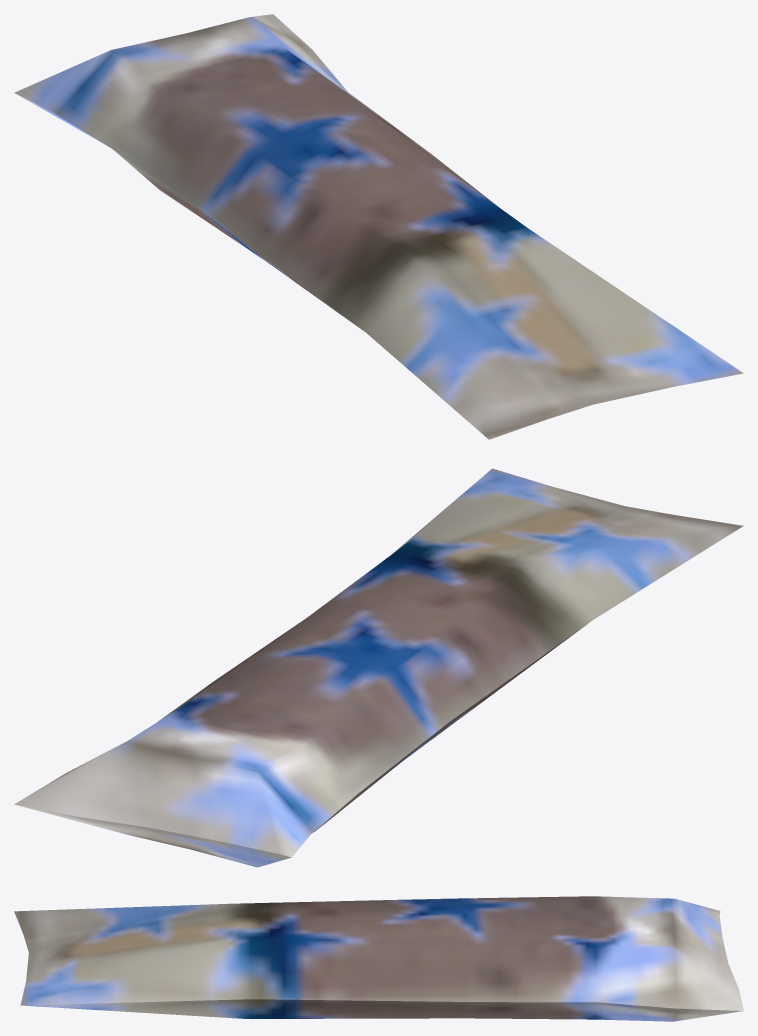
Rendered from icecandy01b.fbx.
3 renders of one model, top to bottom at view 1: azimuth 30°, elevation 25°; view 2: azimuth 150°, elevation 25°; view 3: azimuth 270°, elevation 25°, orthographic. The views are drawn at different scales.
Visible parts, largest first — view 1: icecandy02a; view 2: icecandy02a; view 3: icecandy02a.
Boxes of the visible parts, x1=… form: icecandy02a: x1=14, y1=14, x2=743, y2=439; icecandy02a: x1=14, y1=468, x2=743, y2=867; icecandy02a: x1=14, y1=896, x2=743, y2=1021.
Size of the model in its own units: 7.18 by 3.02 by 22.16.
